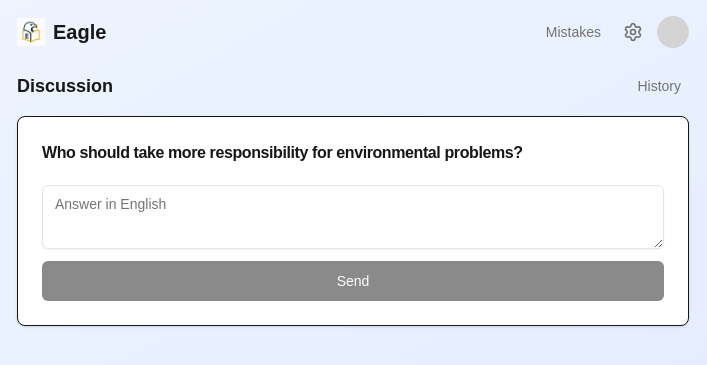
DiscussionSession › moves to reflection when the server ends the conversation
Expected: the heading "Who should take more responsibility for environmental problems?" is shown, [42,144,523,161]
Type "I think companies." into the text box named "Your answer" at point(353, 217), box [42,185,664,249]
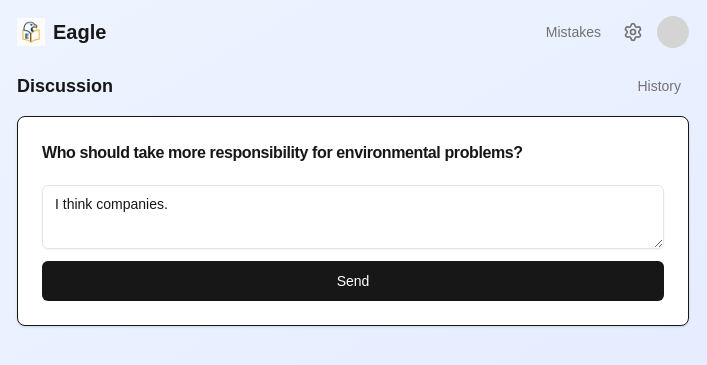
Click the button "Send" at point(353, 281), box [42,261,664,301]
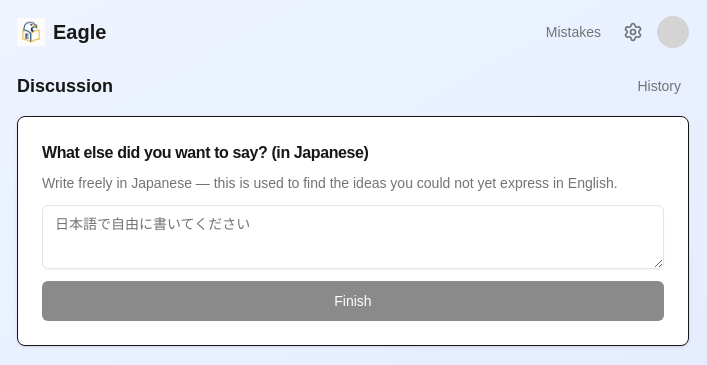
Expected: the heading "What else did you want to say? (in Japanese)" is shown, [42,144,368,161]
